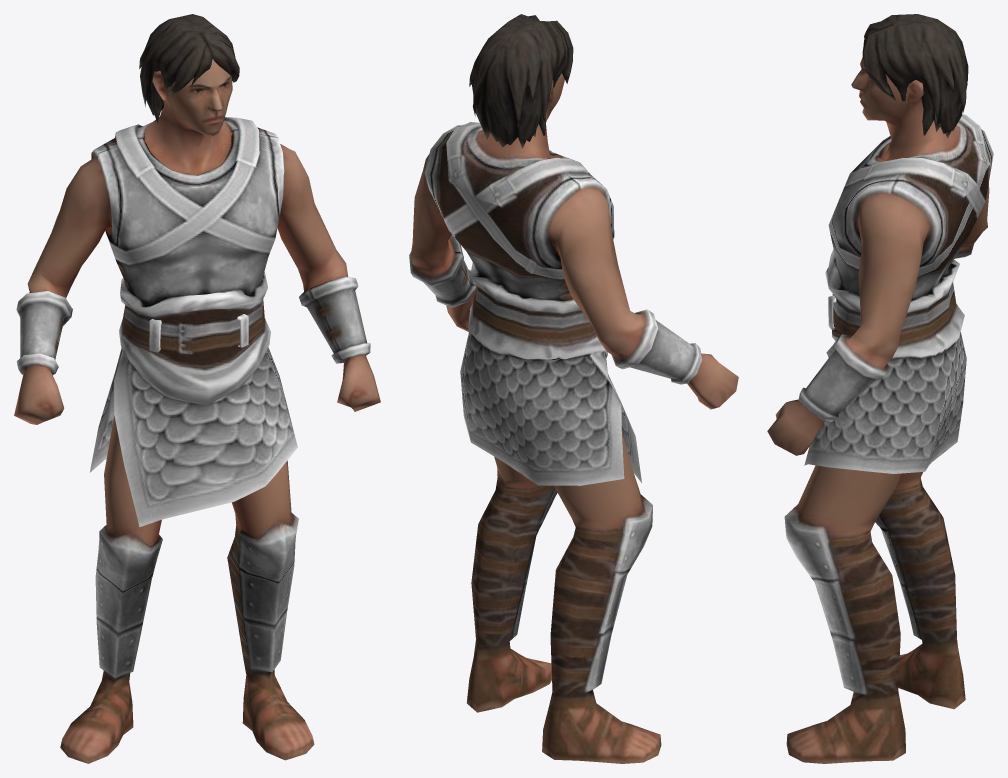
File: body-championinfantry.glb
3 renders of one model, left to right at view 1: azimuth 30°, elevation 25°; view 2: azimuth 150°, elevation 25°; view 3: azimuth 270°, elevation 25°, orthographic.
Bounding box in the file's own units: 1.01 × 2.05 × 0.5934.
1 material, 1 textured.
